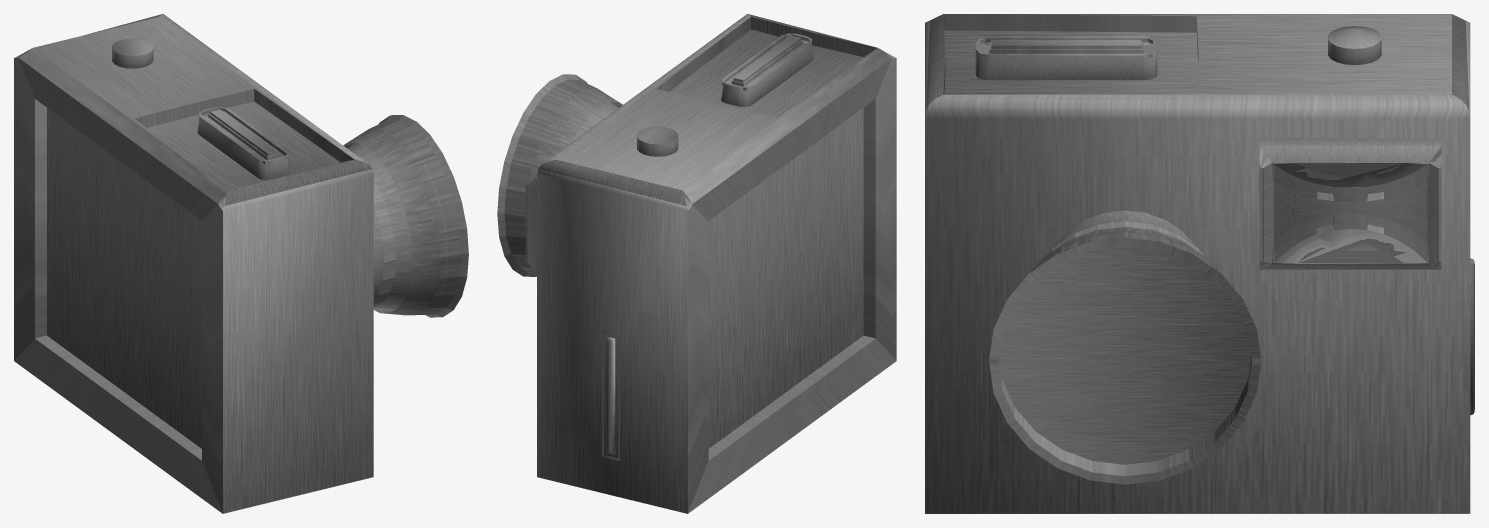
File: KryptonObject.DAE
3 renders of one model, left to right at view 1: azimuth 30°, elevation 25°; view 2: azimuth 150°, elevation 25°; view 3: azimuth 270°, elevation 25°, orthographic. The views are drawn at different scales.
Visible parts, largest first — view 1: Box001; view 2: Box001; view 3: Box001.
Part boxes in pixels (x1,y1,x2,y2): Box001: (14,14,468,513); Box001: (497,14,896,513); Box001: (925,14,1474,513).
Bounding box in the file's own units: 8.83 × 11.91 × 10.44.
1 material, 1 textured.
